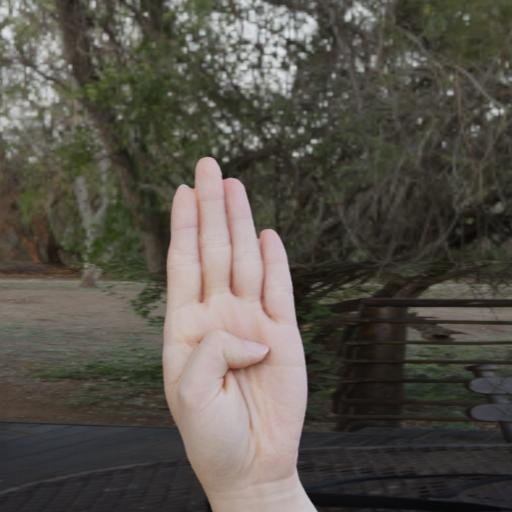B: (116, 133, 404, 512)
